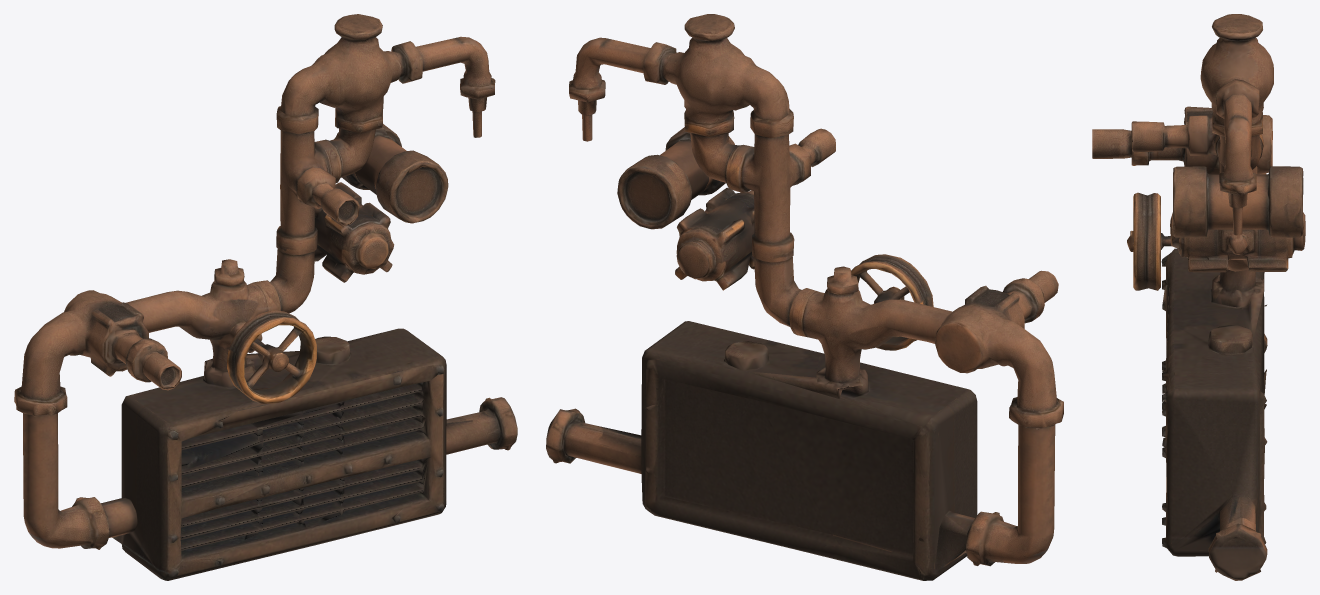
File: pipe_vent.glb
3 views of the same model, side by side, from view 1: azimuth 30°, elevation 25°; view 2: azimuth 150°, elevation 25°; view 3: azimuth 270°, elevation 25° (orthographic). The views are drawn at different scales.
Bounding box in the file's own units: 1.9 × 1.79 × 0.6811.
Materials: 1 (1 with a texture image).
